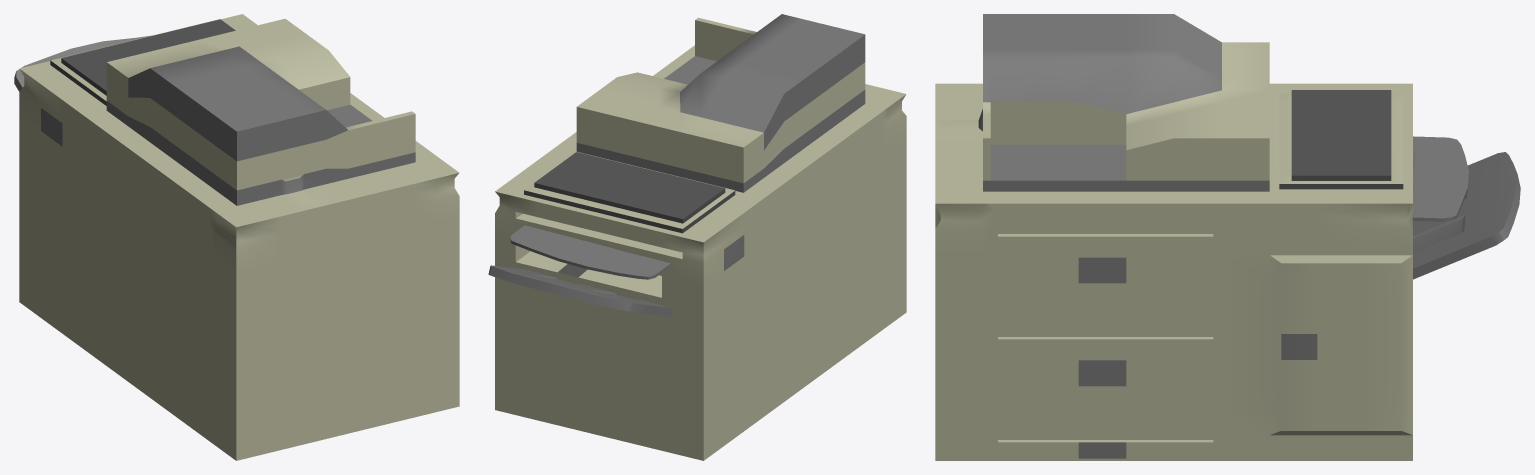
File: Printer Left.fbx
3 renders of one model, left to right at view 1: azimuth 30°, elevation 25°; view 2: azimuth 150°, elevation 25°; view 3: azimuth 270°, elevation 25°, orthographic. The views are drawn at different scales.
Parts seen in each view (by area): view 1: pCube4; view 2: pCube4; view 3: pCube4.
Part boxes in pixels (x1,y1,x2,y2): pCube4: (14, 14, 459, 460); pCube4: (488, 14, 906, 460); pCube4: (935, 14, 1520, 460).
Size of the model in its own units: 1.02 by 1.32 by 2.06.
